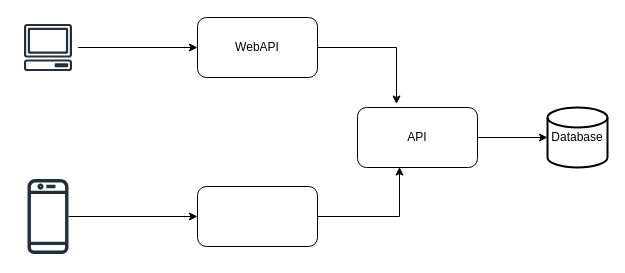
This 625x273 diagram has some shape labels left out. The centre of each missing label's shape, as x and y in pixels:
Client: pixel 47 47
MobileAPI: pixel 257 216
